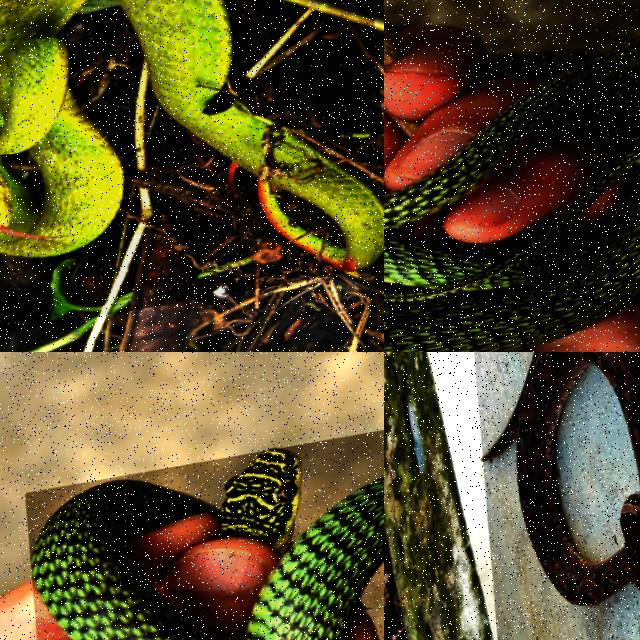Calloselasma rhodostoma: (484, 352, 639, 605)
Chrysopelea ornata: (384, 40, 639, 351), (32, 480, 215, 639)
Trimeresurus: (0, 0, 124, 258)
